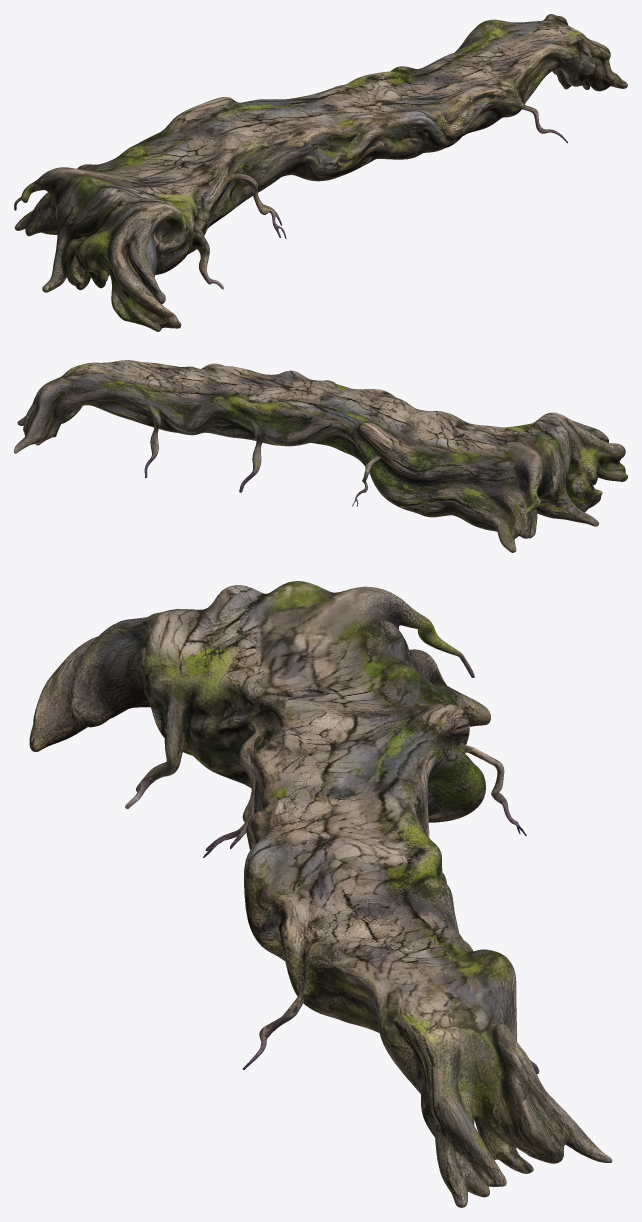
Rendered from root-bridge-v1.glb.
3 renders of one model, top to bottom at view 1: azimuth 30°, elevation 25°; view 2: azimuth 150°, elevation 25°; view 3: azimuth 270°, elevation 25°, orthographic. The views are drawn at different scales.
Bounding box in the file's own units: 1.9 × 0.2928 × 0.8981.
Materials: 1 (1 with a texture image).
